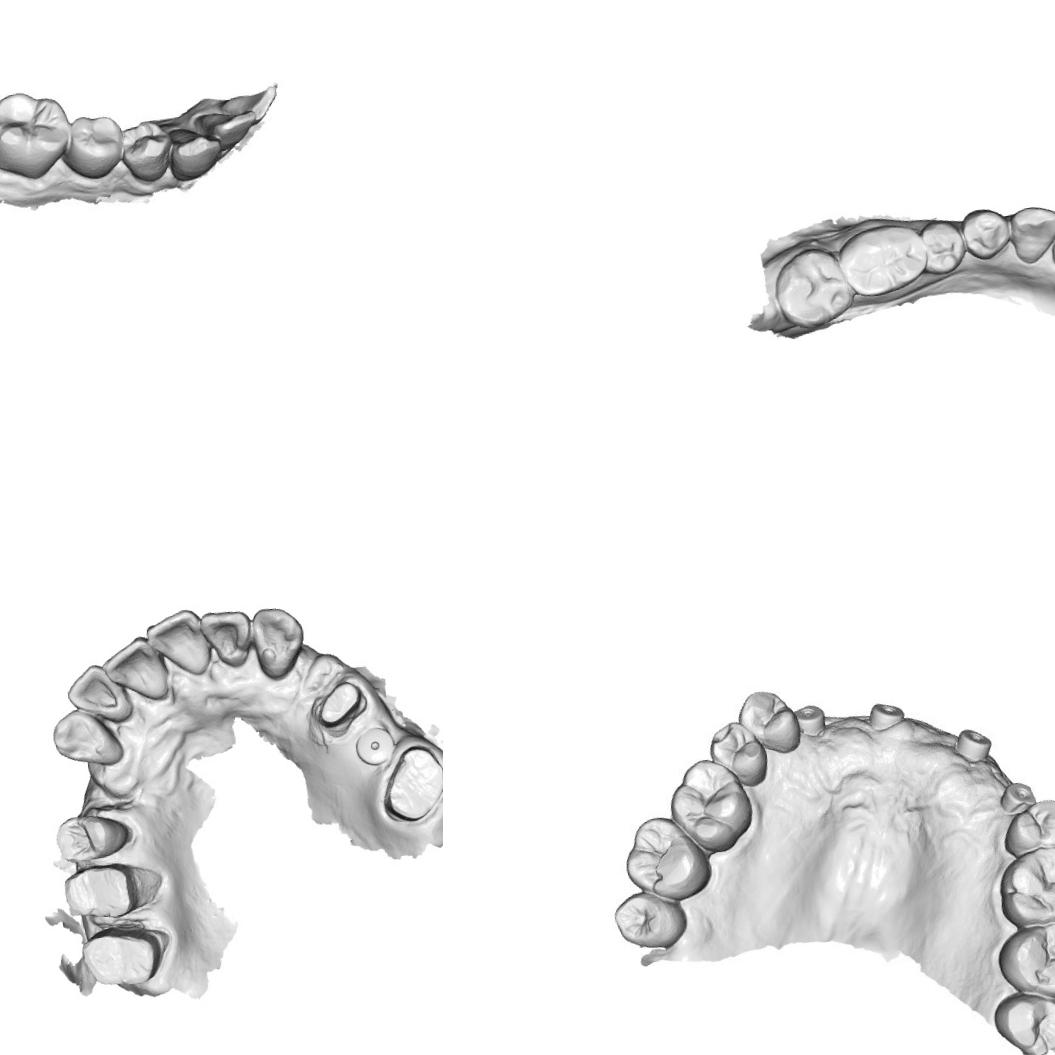canine: (48, 701, 128, 775), (245, 601, 311, 684), (164, 122, 226, 184), (1005, 201, 1055, 269)
crown: (74, 920, 168, 996), (375, 739, 443, 827), (59, 860, 144, 926), (307, 675, 371, 732)
implant: (946, 720, 998, 767), (350, 722, 399, 769), (862, 692, 910, 736), (995, 774, 1041, 816), (790, 697, 830, 740)
incisor: (140, 604, 216, 685), (95, 632, 175, 708), (61, 658, 135, 730), (196, 604, 256, 674), (196, 106, 260, 154), (219, 84, 281, 129)
molar: (662, 750, 759, 860), (616, 810, 713, 908), (767, 244, 855, 334), (838, 218, 932, 302), (0, 85, 76, 186), (989, 916, 1055, 1006), (993, 838, 1055, 933), (609, 885, 690, 954), (986, 984, 1055, 1055)
premolar: (733, 684, 805, 760), (704, 716, 770, 794), (59, 110, 128, 184), (52, 808, 132, 868), (116, 117, 176, 186), (995, 794, 1055, 860), (958, 202, 1016, 264), (919, 218, 967, 275)
